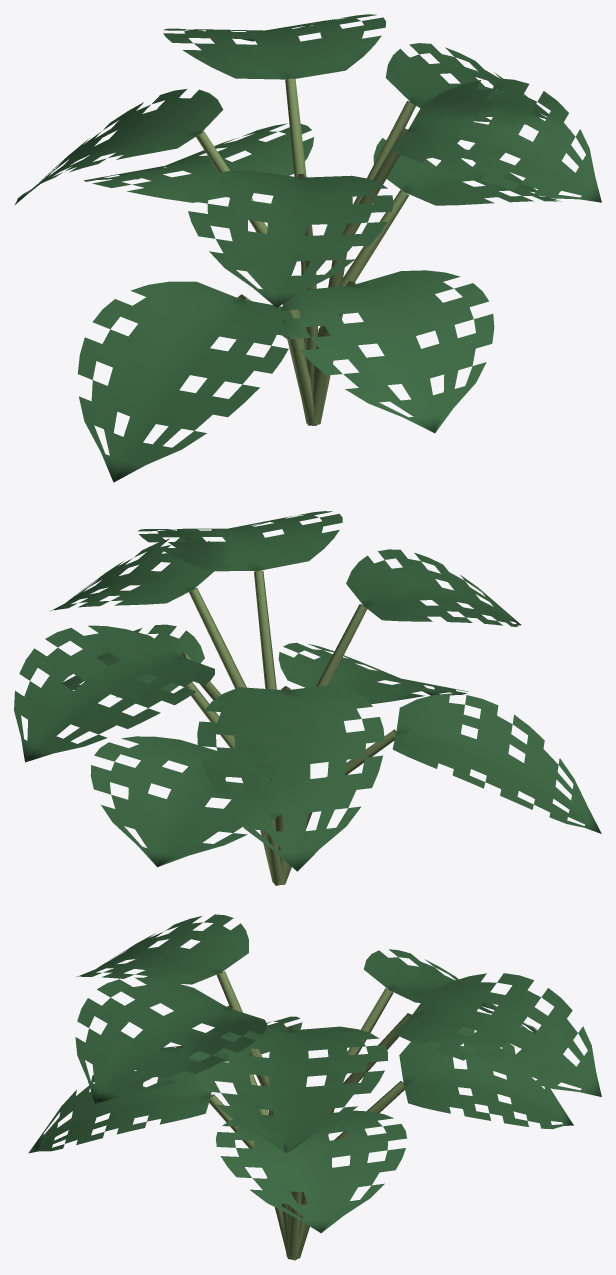
The model's file is monstera.glb.
The picture shows the model from 3 angles, top to bottom: view 1: azimuth 30°, elevation 25°; view 2: azimuth 150°, elevation 25°; view 3: azimuth 270°, elevation 25°; orthographic projection. The views are drawn at different scales.
Parts seen in each view (by area): view 1: monstera; view 2: monstera; view 3: monstera.
Part boxes in pixels (x1=…): monstera: x1=14, y1=14, x2=601, y2=482; monstera: x1=14, y1=511, x2=601, y2=885; monstera: x1=28, y1=914, x2=601, y2=1260.
Size of the model in its own units: 2.04 by 1.15 by 2.11.
